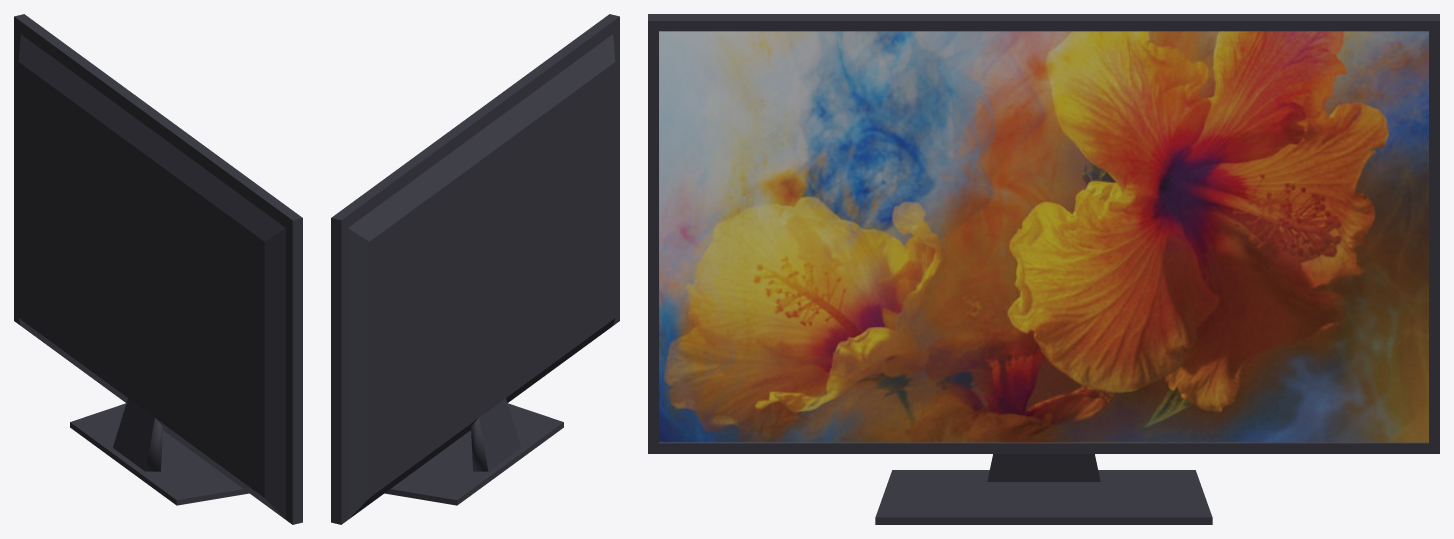
The model's file is 303FB08E-CA1F-47DD-BCAC-54898238FE9E.dae.
The picture shows the model from 3 angles, left to right: view 1: azimuth 30°, elevation 25°; view 2: azimuth 150°, elevation 25°; view 3: azimuth 270°, elevation 25°; orthographic projection. The views are drawn at different scales.
Parts seen in each view (by area): view 1: TV_60; view 2: TV_60; view 3: TV_60.
Boxes of the visible parts, bbox=[...] form: TV_60: bbox=[14, 14, 302, 524]; TV_60: bbox=[331, 14, 619, 524]; TV_60: bbox=[648, 14, 1439, 524].
Size of the model in its own units: 0.2 by 1.41 by 0.9512.
2 materials, 2 textured.
